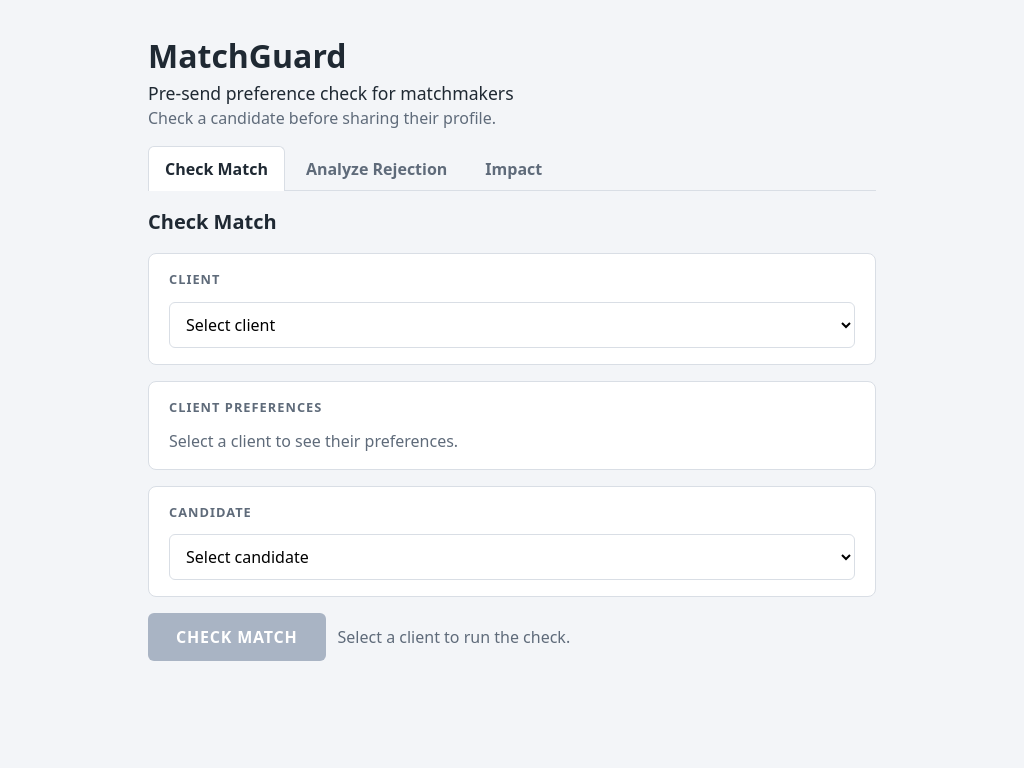
App › shows client preferences and candidate details from the API
Select "Rahul" in the dropdown labelled "Client" at (512, 325), box [169,302,855,348]
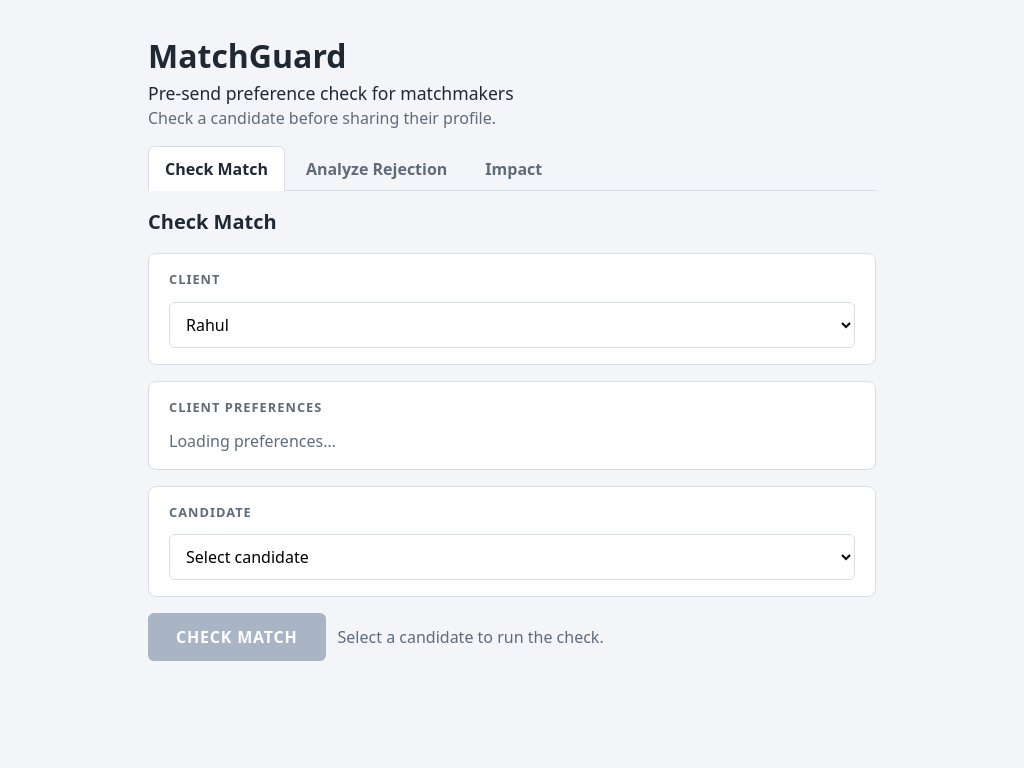
Select "Ishita — 29 · Delhi NCR" in the dropdown labelled "Candidate" at (512, 557), box [169,534,855,580]
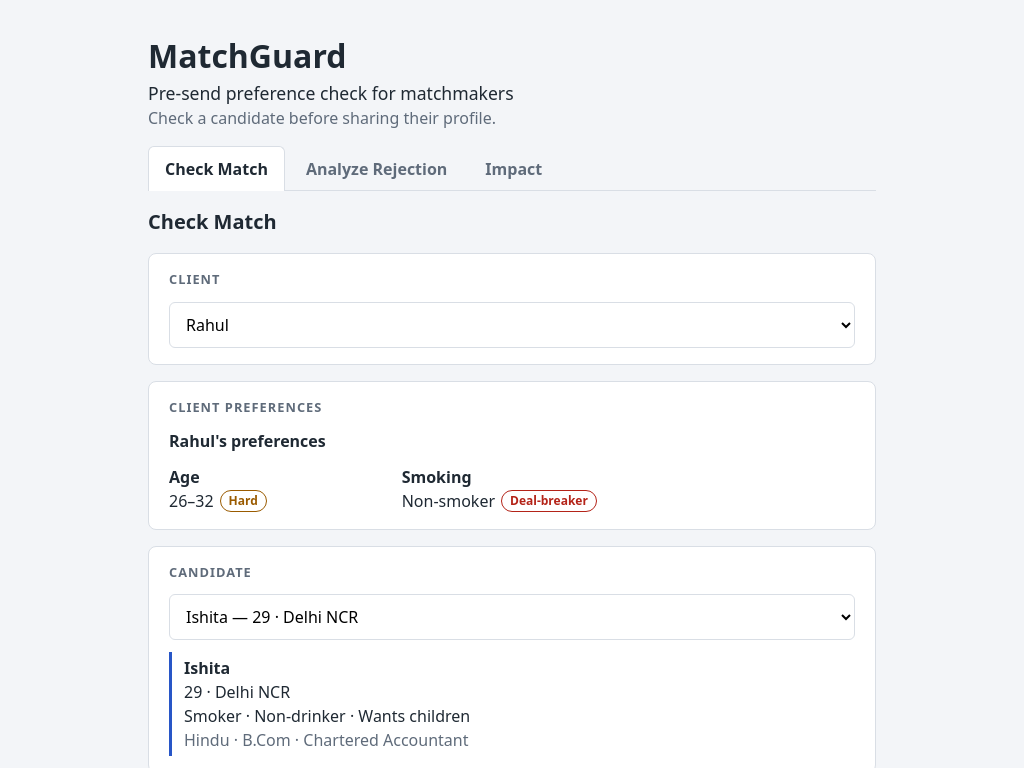
Check: the text "Rahul's preferences" is shown, box [169,430,326,452]
Check: the text "26–32" is shown, box [169,490,214,512]
Check: the text "Smoker · Non-drinker · Wants children" is shown, box [184,705,470,727]
